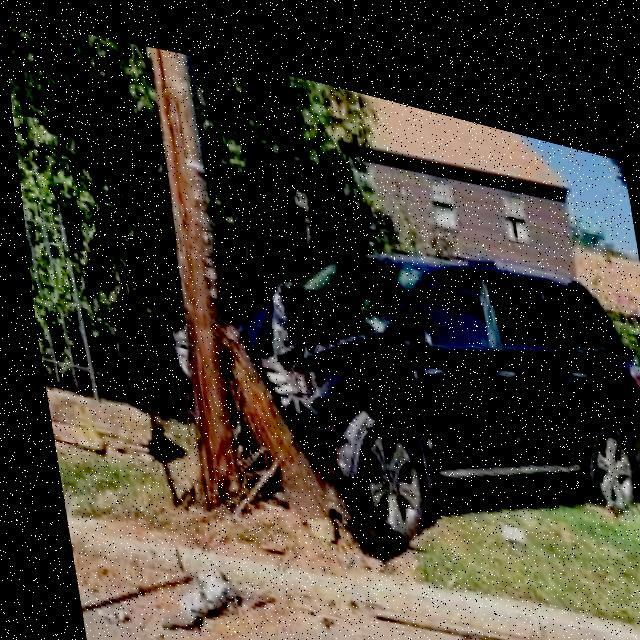Car Accident Detector - v4 Generation1 Exported: (128, 146, 640, 605)
